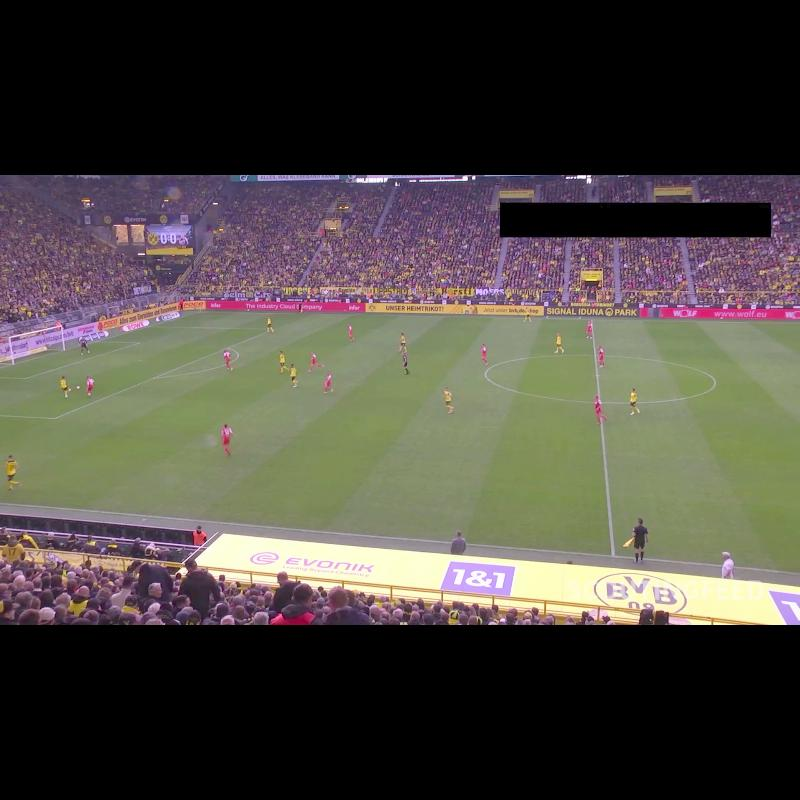cross_recipient_zone: (0, 326, 273, 419)
crossing_player_zone: (0, 414, 163, 506), (151, 312, 375, 331)
pitch: (0, 311, 800, 575)
